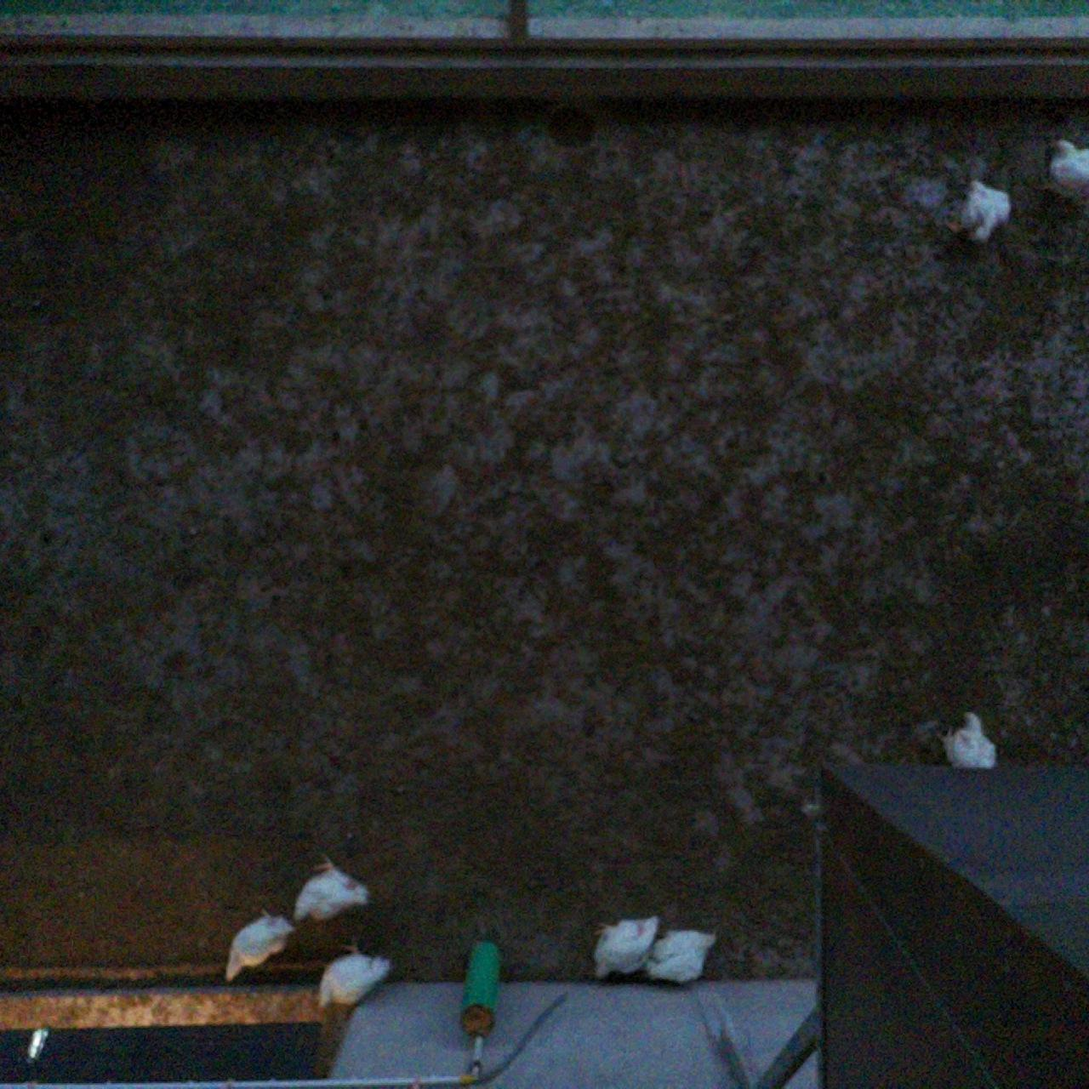chicken: (306, 933, 393, 1015), (290, 847, 374, 929), (583, 911, 666, 983), (223, 903, 296, 983), (941, 173, 1016, 246), (642, 924, 720, 990), (931, 705, 1002, 774), (1039, 134, 1089, 206)
